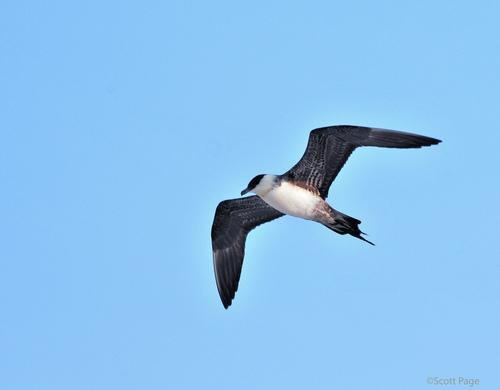bird: (211, 123, 444, 310)
